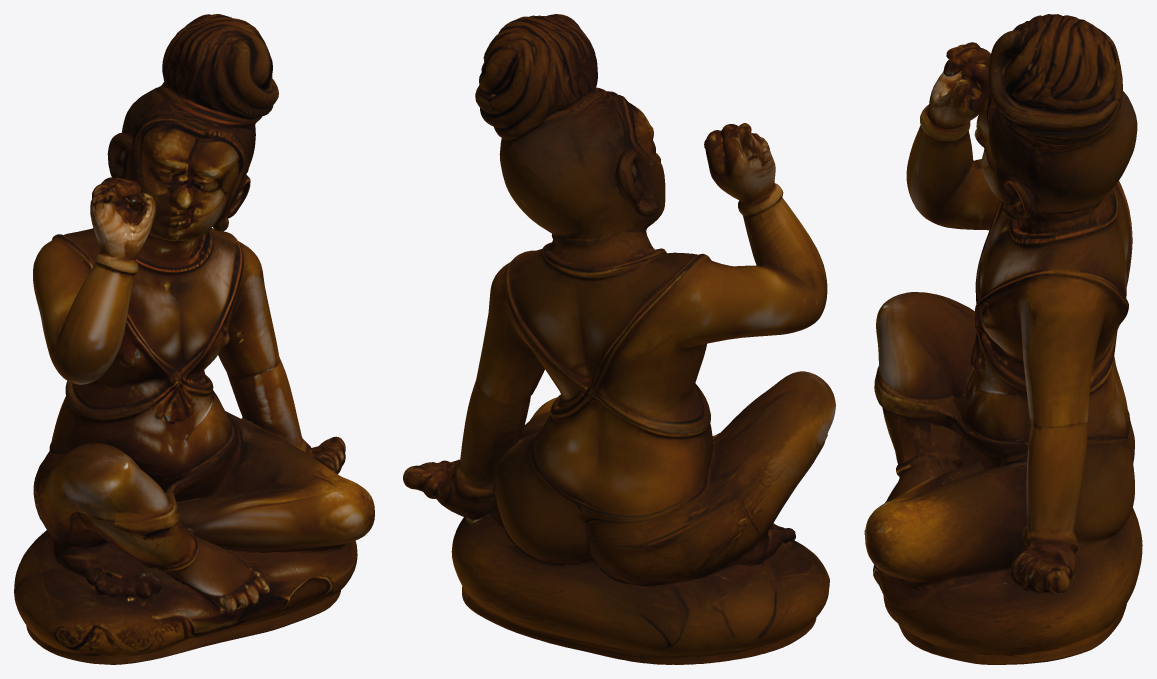
3 renders of one model, left to right at view 1: azimuth 30°, elevation 25°; view 2: azimuth 150°, elevation 25°; view 3: azimuth 270°, elevation 25°, orthographic. The views are drawn at different scales.
Parts seen in each view (by area): view 1: textured_mesh; view 2: textured_mesh; view 3: textured_mesh.
Boxes of the visible parts, <box> form: textured_mesh: <box>14,14,374,664</box>; textured_mesh: <box>403,14,835,664</box>; textured_mesh: <box>864,14,1142,664</box>.
Size of the model in its own units: 1.32 by 1.99 by 0.835.
Materials: 1 (1 with a texture image).
